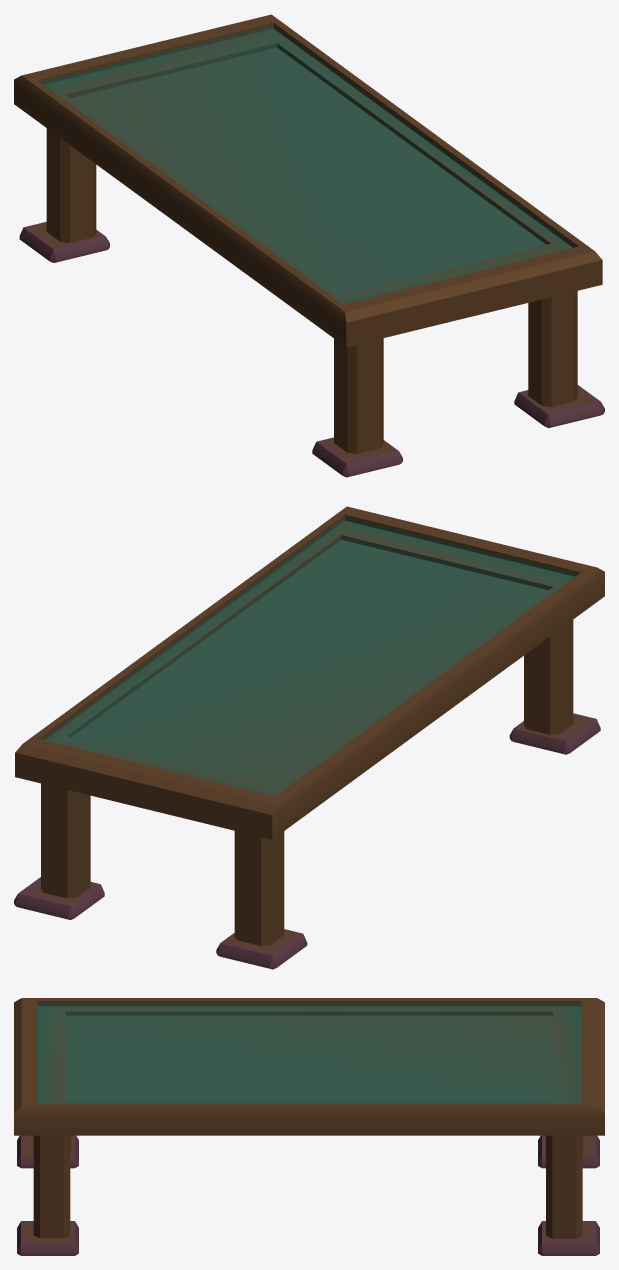
File: pooltable.fbx
The picture shows the model from 3 angles, top to bottom: view 1: azimuth 30°, elevation 25°; view 2: azimuth 150°, elevation 25°; view 3: azimuth 270°, elevation 25°; orthographic projection. The views are drawn at different scales.
Visible parts, largest first — view 1: Cube.004; view 2: Cube.004; view 3: Cube.004.
Part boxes in pixels (x1,y1,x2,y2): Cube.004: [14, 14, 604, 477]; Cube.004: [14, 506, 604, 969]; Cube.004: [14, 998, 604, 1255].
Size of the model in its own units: 360 by 216 by 789.
